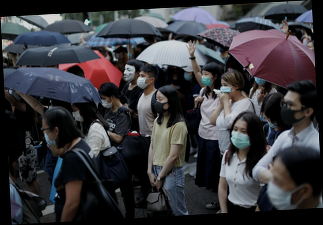with_mask: (265, 172, 296, 210), (279, 97, 303, 125), (230, 124, 251, 150), (41, 125, 54, 149), (153, 95, 168, 114), (219, 81, 234, 98), (121, 66, 135, 84), (135, 73, 149, 90), (200, 71, 213, 88), (71, 106, 83, 123), (99, 95, 112, 109)
